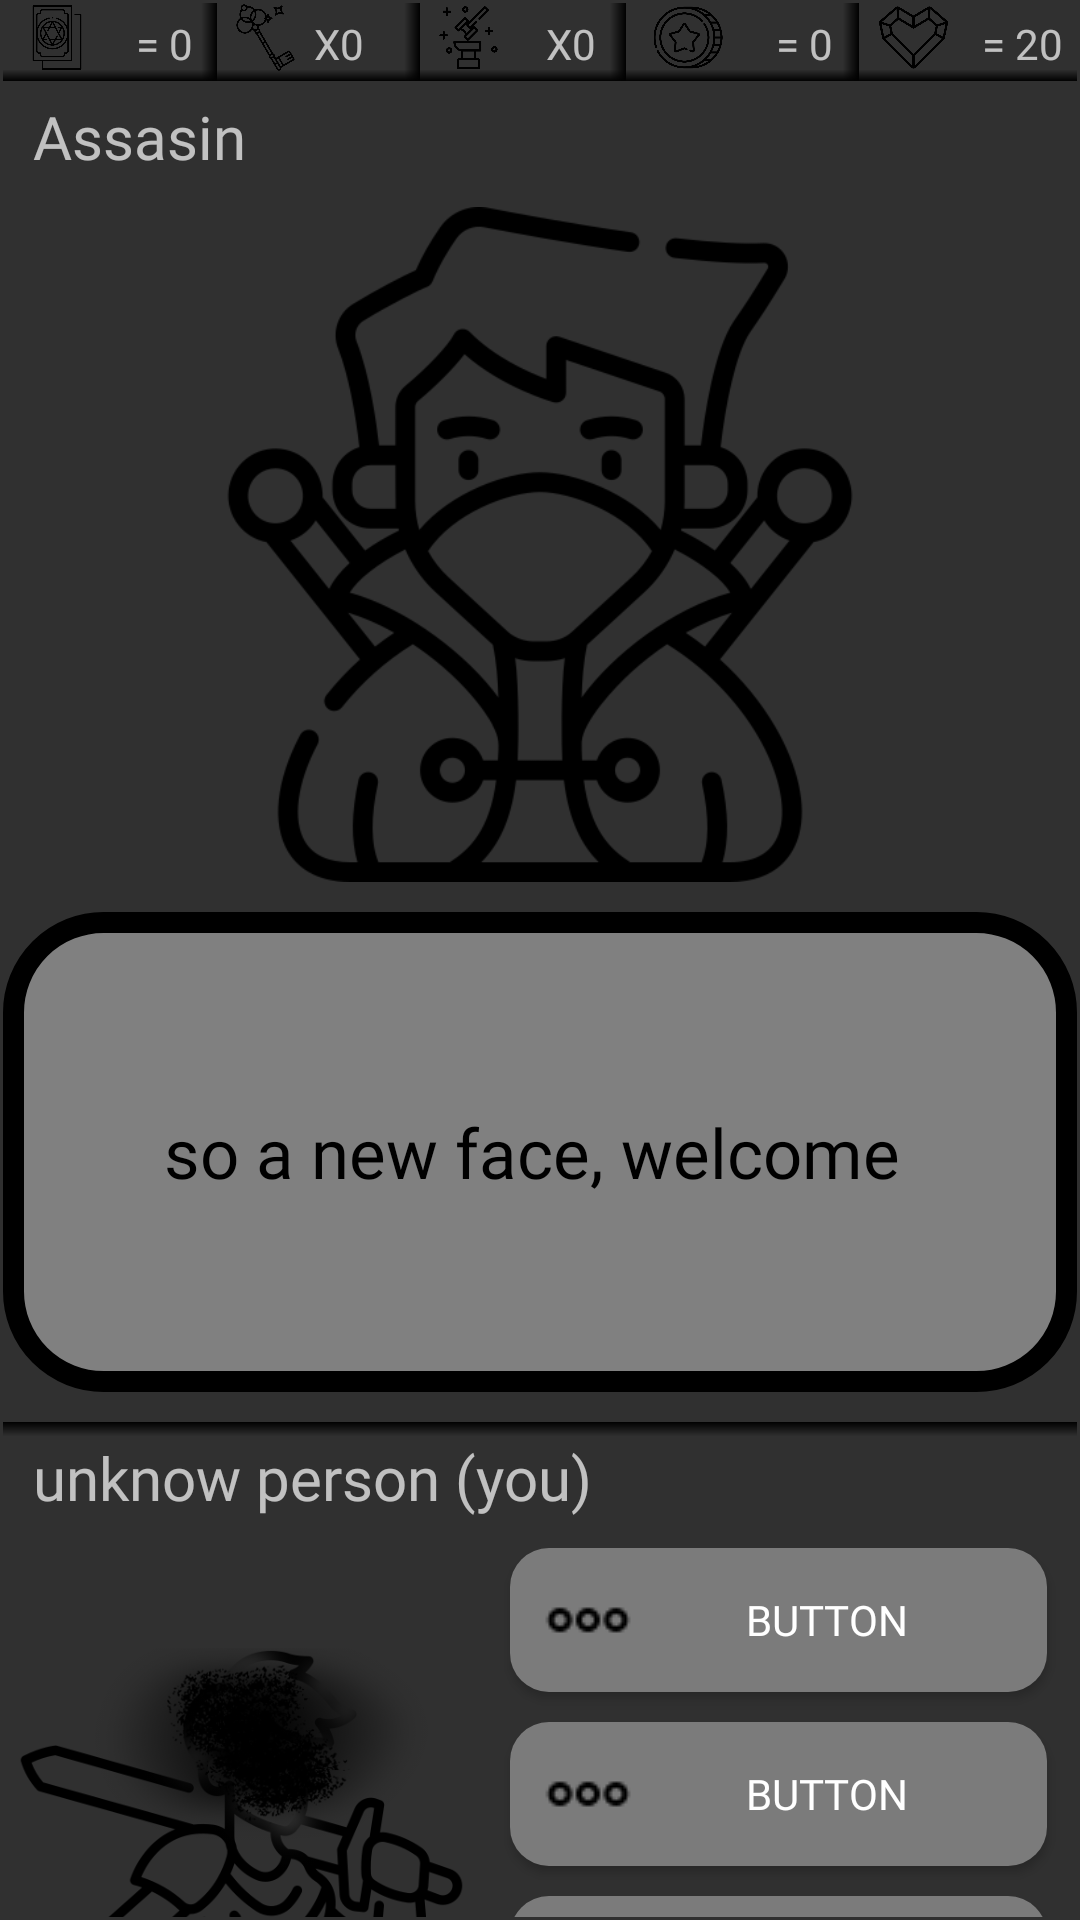

Icons on this 1080px x 1920px Android screen, each with the point to tap as [x,y]:
card: [57,37]
key: [265,37]
money: [688,37]
refine: [468,37]
